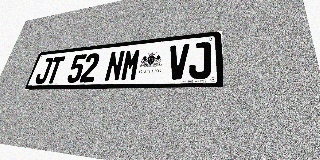2: (79, 53, 101, 83)
5: (66, 54, 87, 83)
J: (188, 41, 211, 79), (34, 57, 54, 84)
M: (120, 48, 142, 81)
N: (104, 50, 125, 82)
T: (45, 56, 65, 84)
V: (167, 44, 189, 80)
